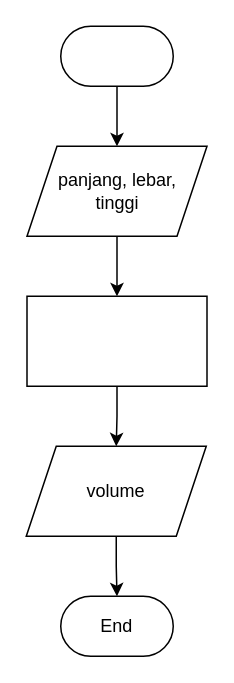
Some shapes in this 234 by 683 pixel diagram are drawn without their labels. The centre of each missing label's shape, as x and y in pixels:
"Start" goes at point 116,55.
"volume = panjang * lebar * tinggi" goes at point 116,340.
